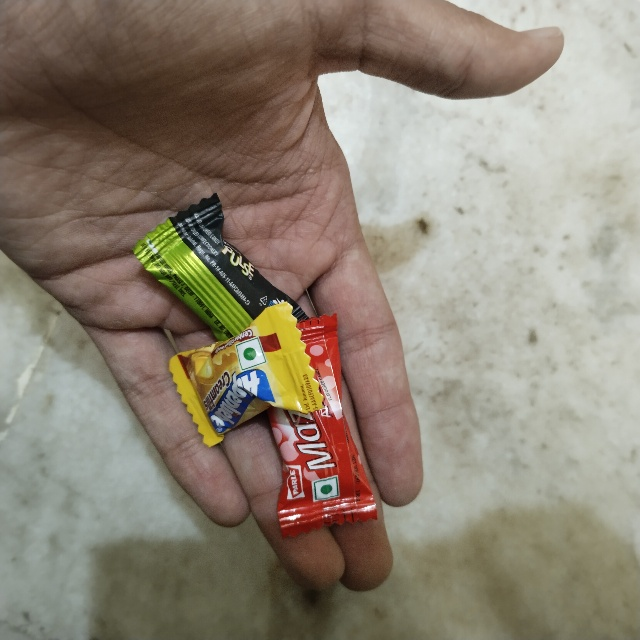Alpenlibe Creamfills: (162, 360, 303, 471)
Mazelo: (248, 326, 337, 526)
Pulse: (214, 191, 382, 285)
